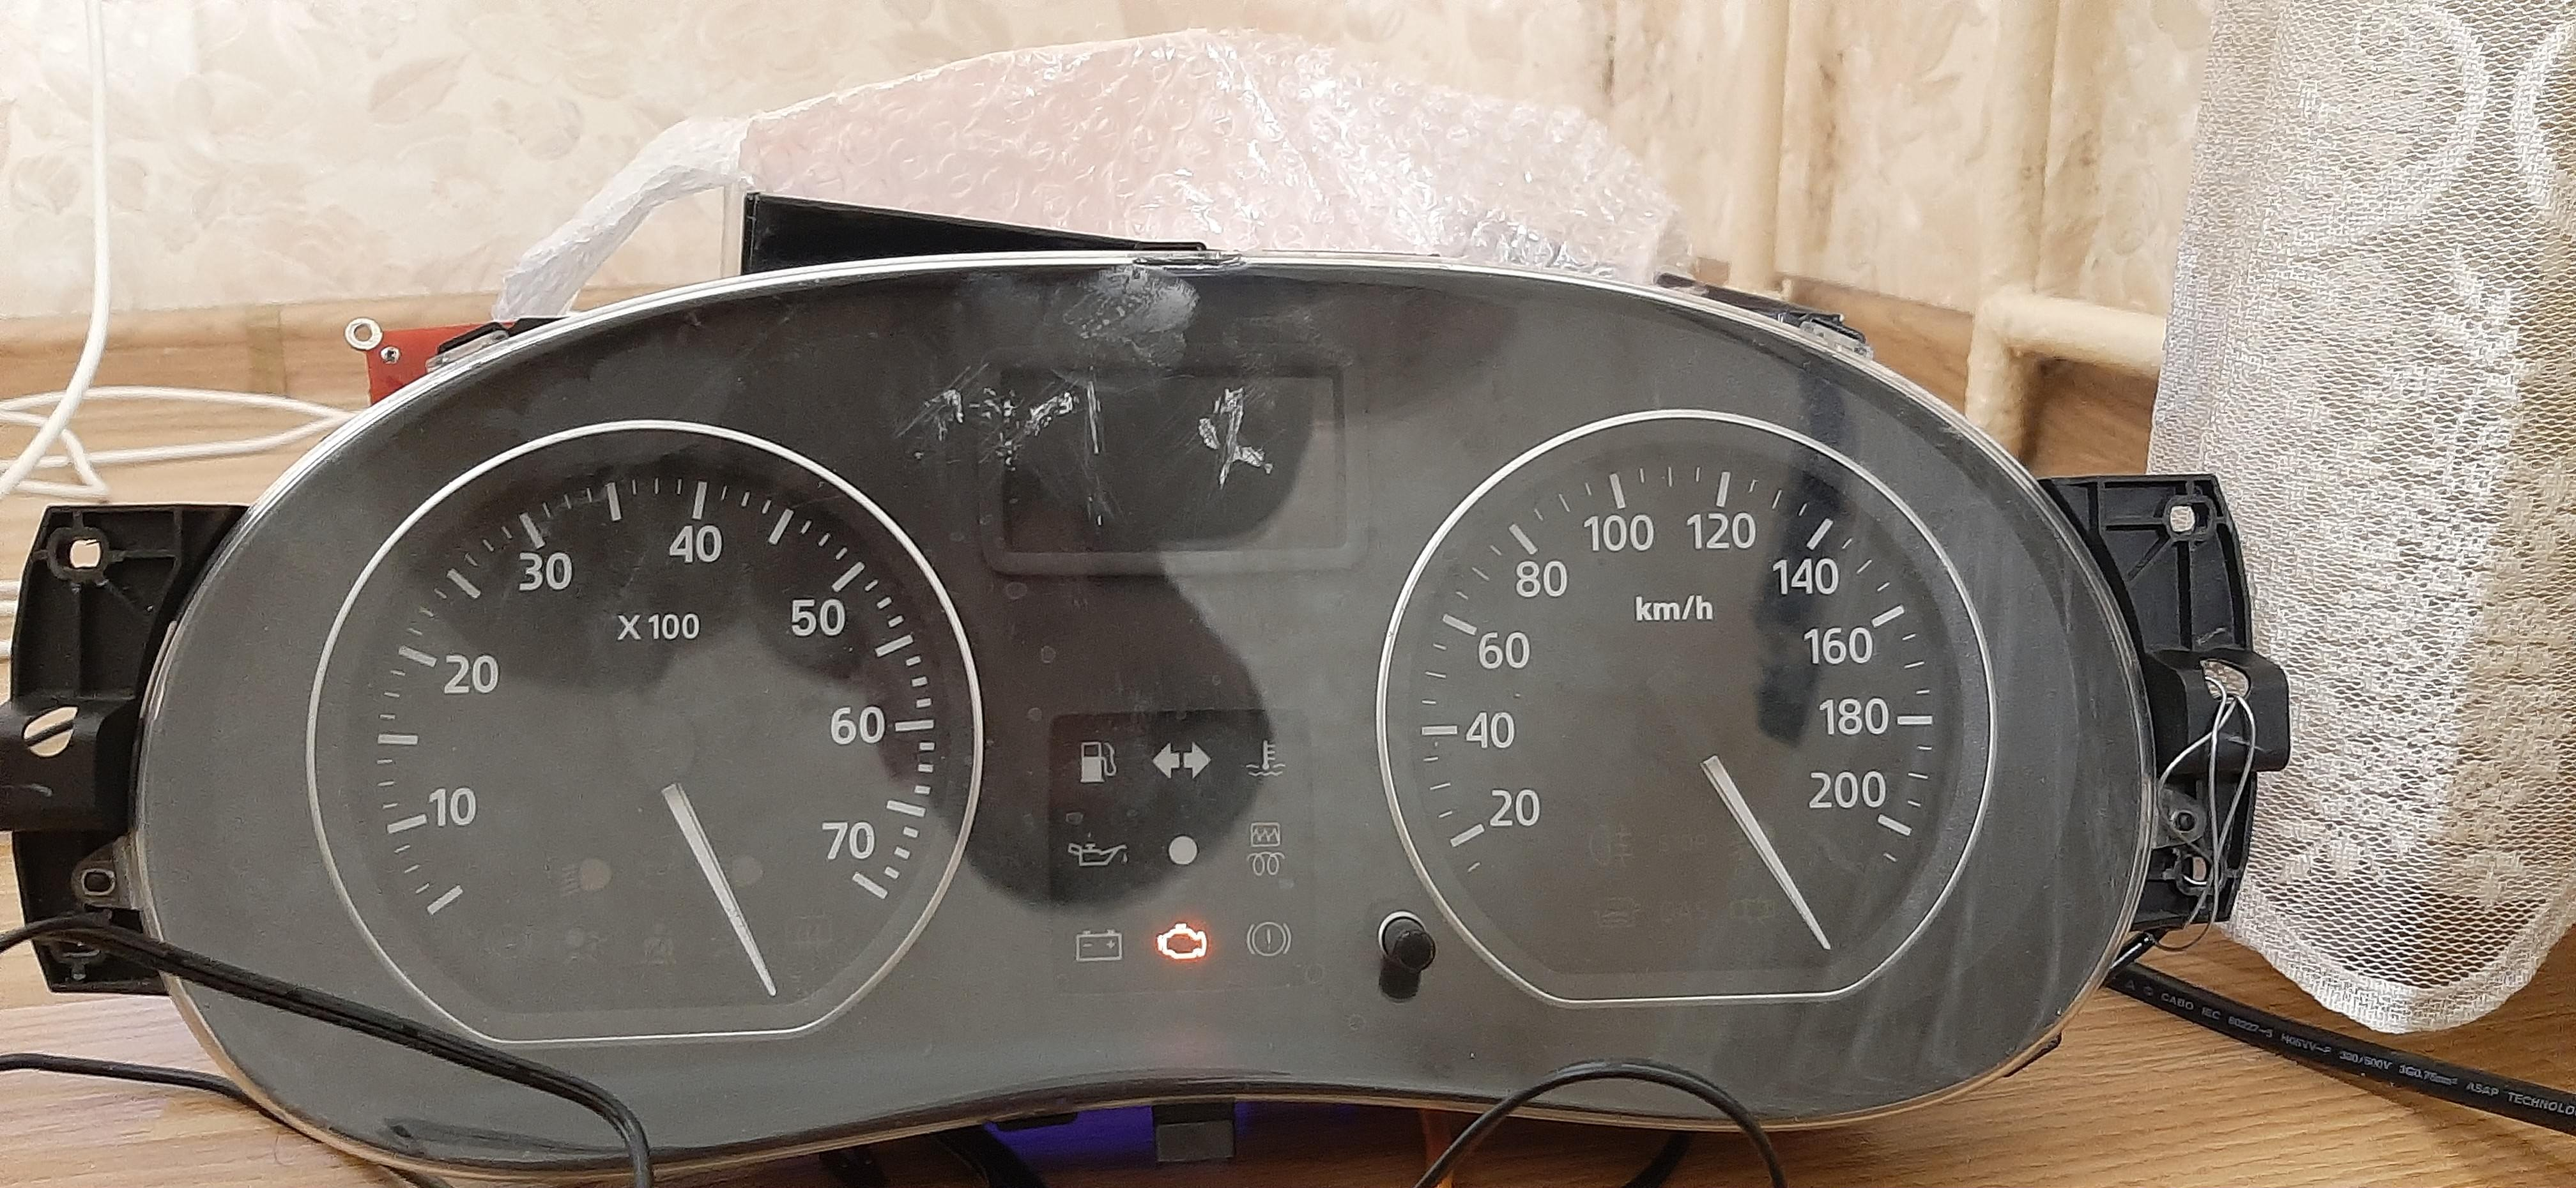engine7: (1157, 922, 1209, 961)
